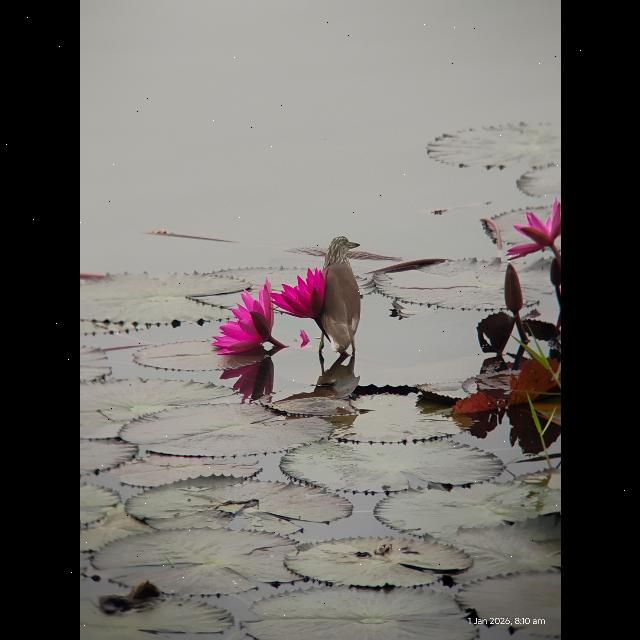heron: (312, 232, 371, 380)
